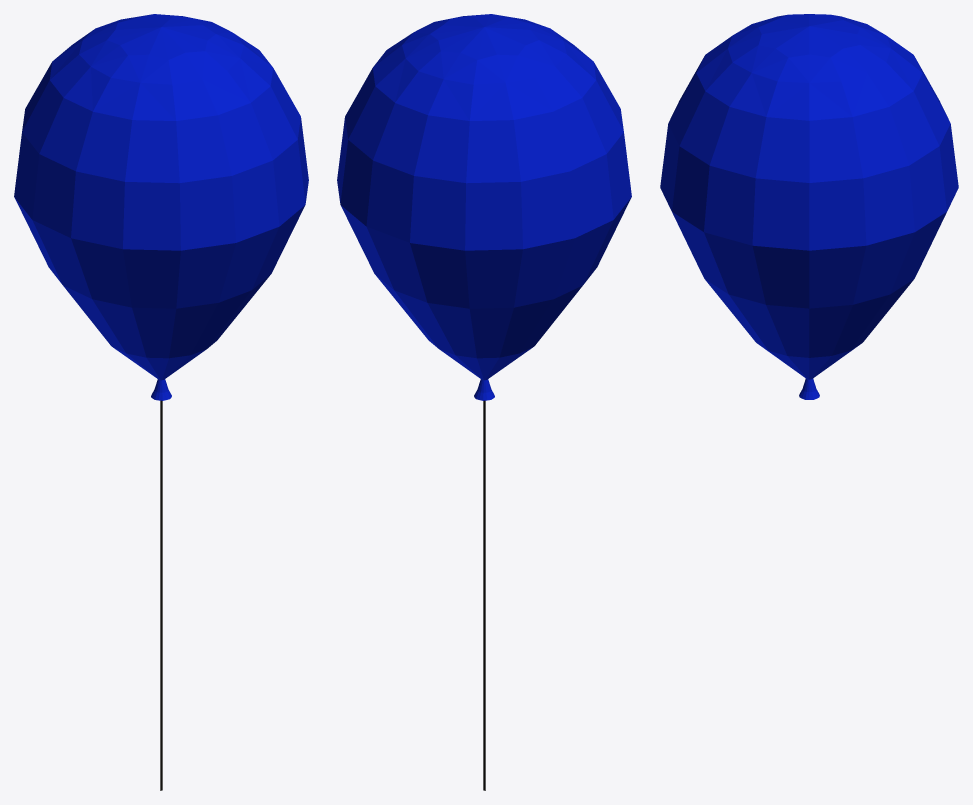
The model's file is BallonBlue.obj.
The picture shows the model from 3 angles, left to right: view 1: azimuth 30°, elevation 25°; view 2: azimuth 150°, elevation 25°; view 3: azimuth 270°, elevation 25°; orthographic projection.
Parts seen in each view (by area): view 1: BallonBlue_BallonBlue_BallonBlue, BallonBlue_BallonBlue_String; view 2: BallonBlue_BallonBlue_BallonBlue, BallonBlue_BallonBlue_String; view 3: BallonBlue_BallonBlue_BallonBlue.
Part boxes in pixels (x1,y1,x2,y2): BallonBlue_BallonBlue_BallonBlue: (14,14,308,400); BallonBlue_BallonBlue_String: (160,400,162,790); BallonBlue_BallonBlue_BallonBlue: (337,14,631,400); BallonBlue_BallonBlue_String: (483,400,485,790); BallonBlue_BallonBlue_BallonBlue: (660,14,958,399).
Size of the model in its own units: 1.67 by 4.72 by 1.67.
